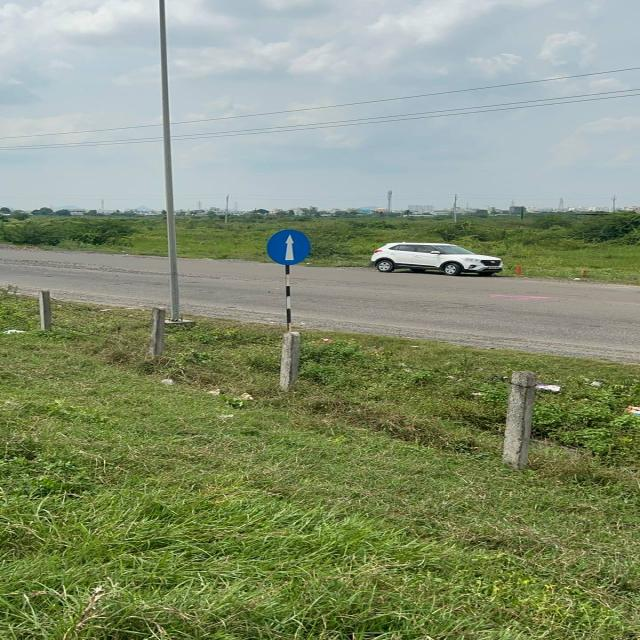compulsory_ahead: (265, 230, 314, 265)
